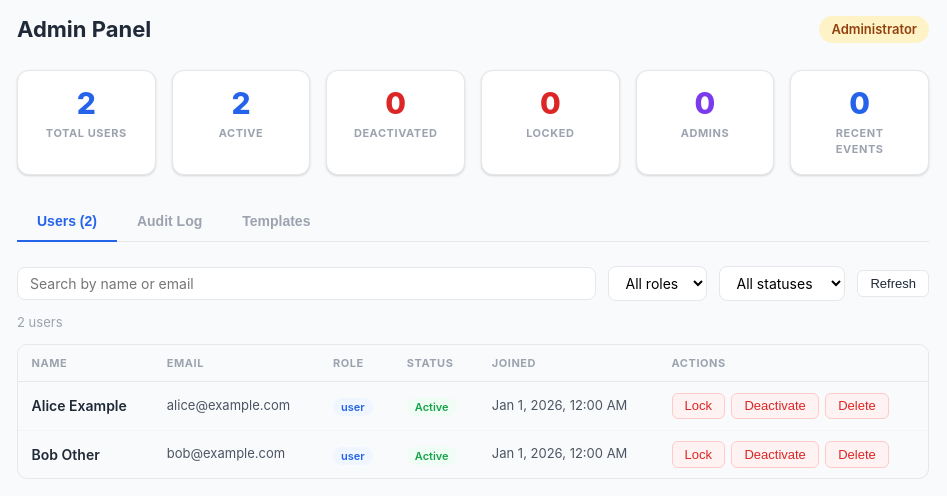
AdminPanel users tab actions › filters users by search term
The width and height of the screenshot is (947, 496).
Expected: the text "Bob Other" is shown, top-left (18, 430), bottom-right (153, 478)
Step 1. Type "alice" into the field with placeholder "Search by name or email" → (307, 283), box top-left (17, 267), bottom-right (596, 300)
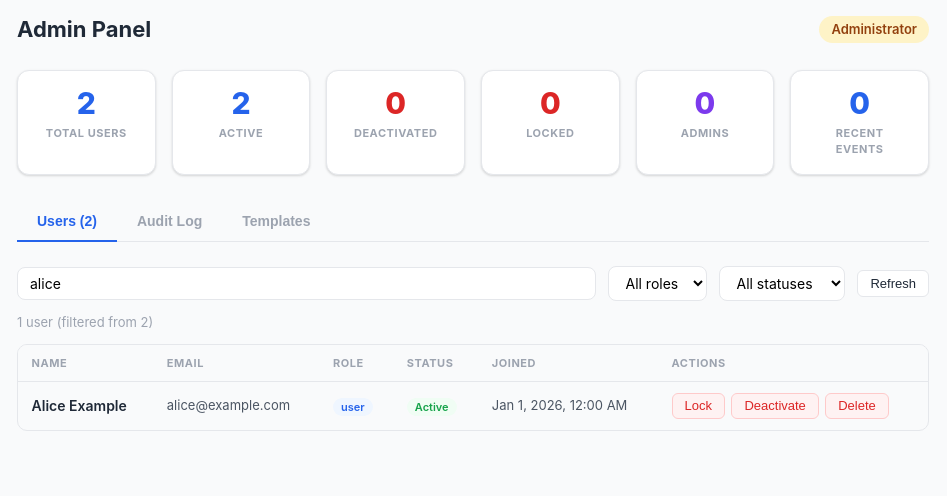
Expected: the text "Alice Example" is shown, top-left (18, 382), bottom-right (153, 430)
Now the text "Bob Other" is gone
